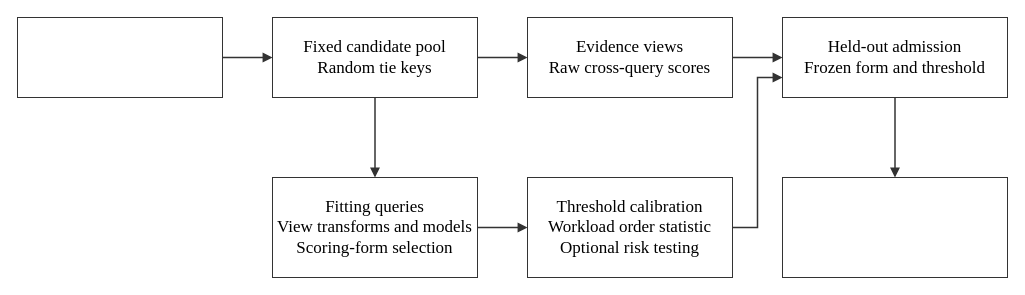
This 1025x295 diagram has some shape labels left out. The centre of each missing label's shape, as x and y in pixels:
"Admission record Source, score, rank Yield and coverage" goes at [895,227].
"Original corpus Sentence identities Verified text" goes at [119,57].
